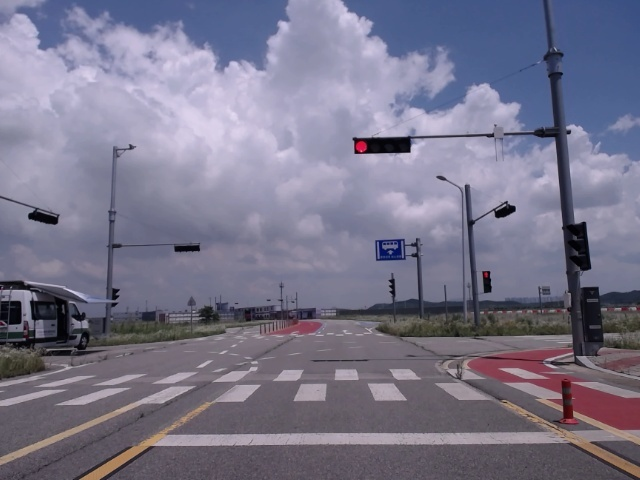red_4: (352, 136, 413, 156)
